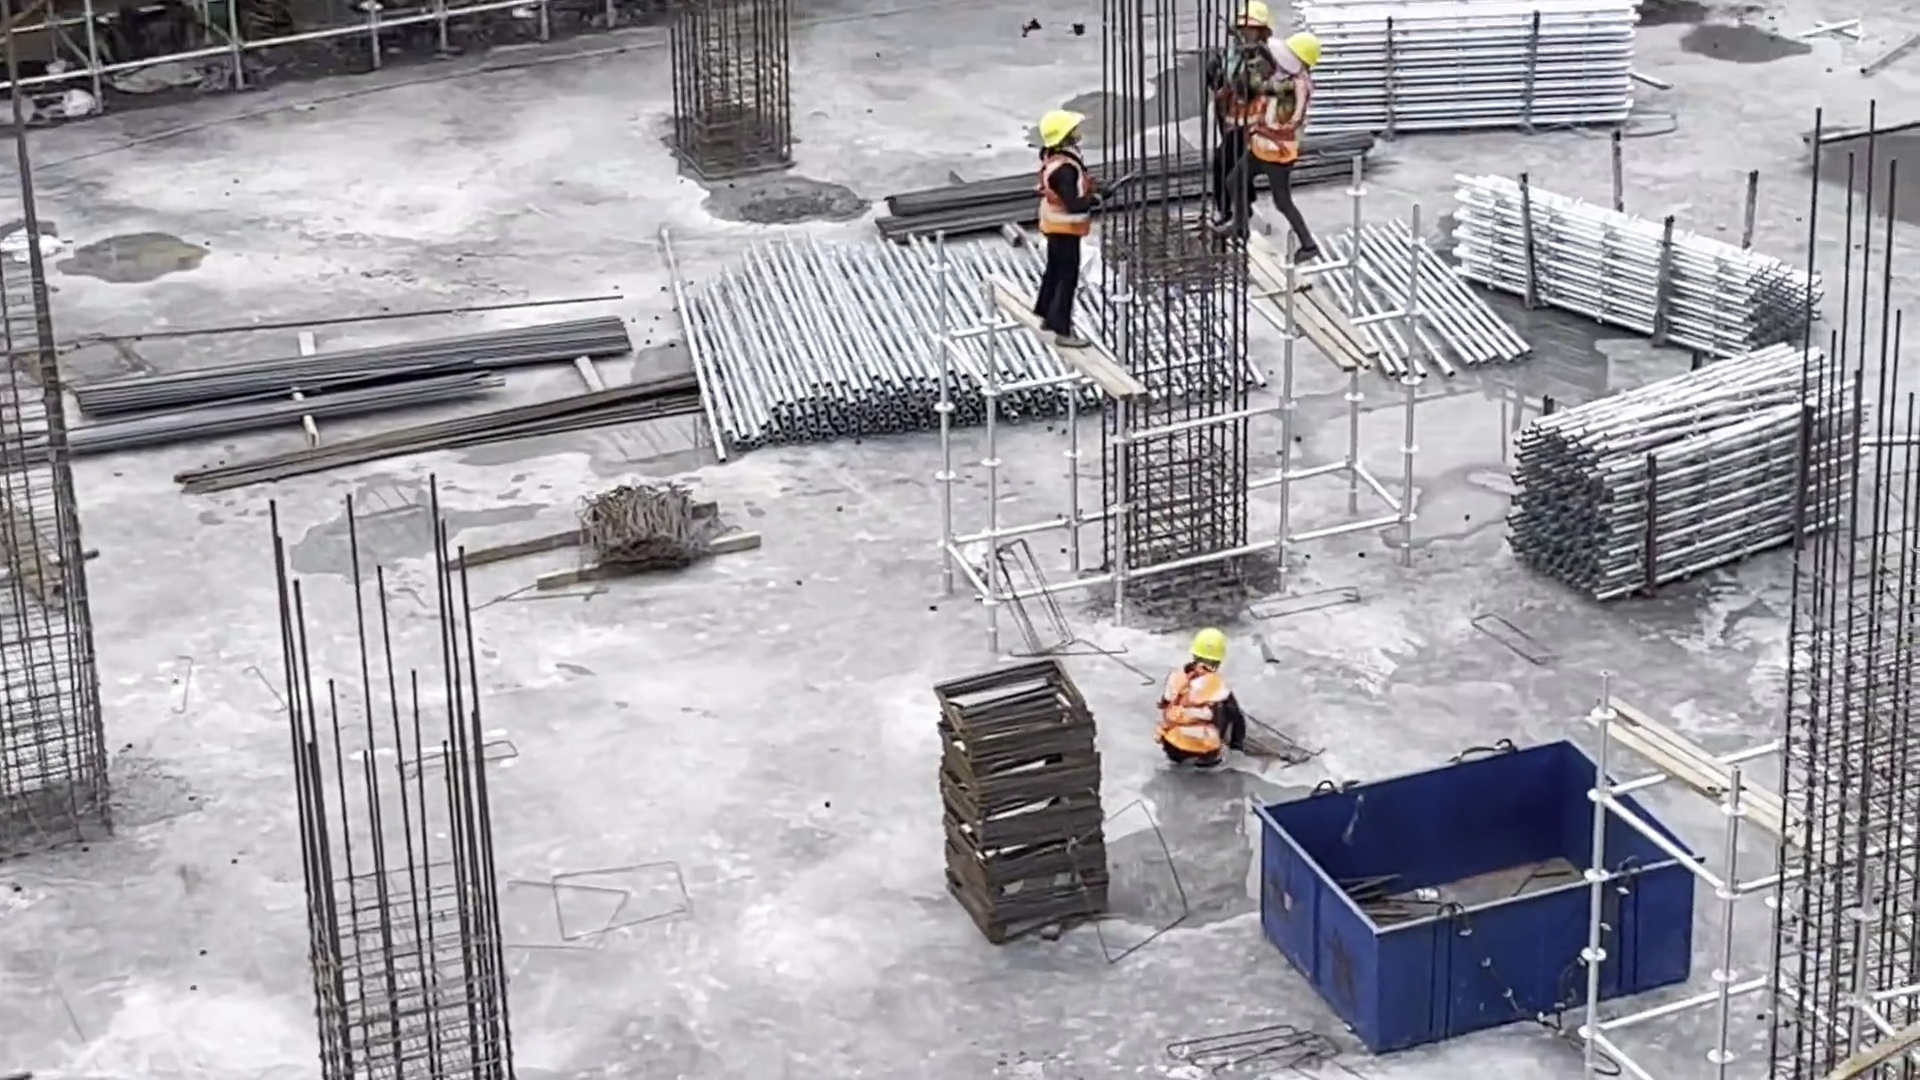helmet: (1037, 108, 1082, 143), (1289, 37, 1323, 65)
hopper: (1250, 737, 1703, 1054)
person: (1237, 28, 1329, 256), (1021, 105, 1099, 348), (1156, 623, 1245, 772), (1214, 6, 1271, 219)
rebar: (177, 386, 722, 515), (77, 317, 637, 422), (881, 141, 1381, 247), (38, 376, 495, 478)
scaffold: (667, 242, 1174, 422), (1500, 352, 1864, 601), (1428, 164, 1821, 365), (1252, 1, 1675, 149)
vest: (1162, 658, 1234, 756), (1251, 69, 1312, 164), (1037, 149, 1092, 238)
